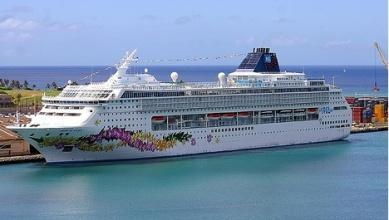youlun: (14, 54, 354, 164)
